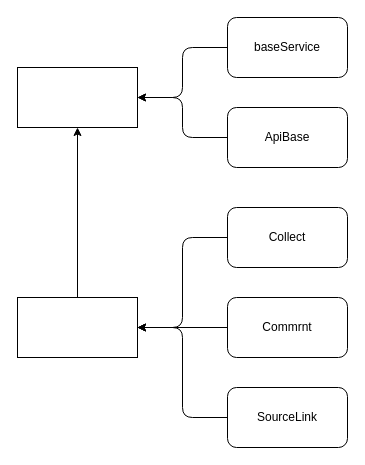
Image size: 365x465. Some labels were removed from this diagram. The shapes that lost their labels are listed below. From the top down, each one's centre as x and y in pixels, then its label:
At (x=77, y=97): "base".
At (x=77, y=327): "service".
